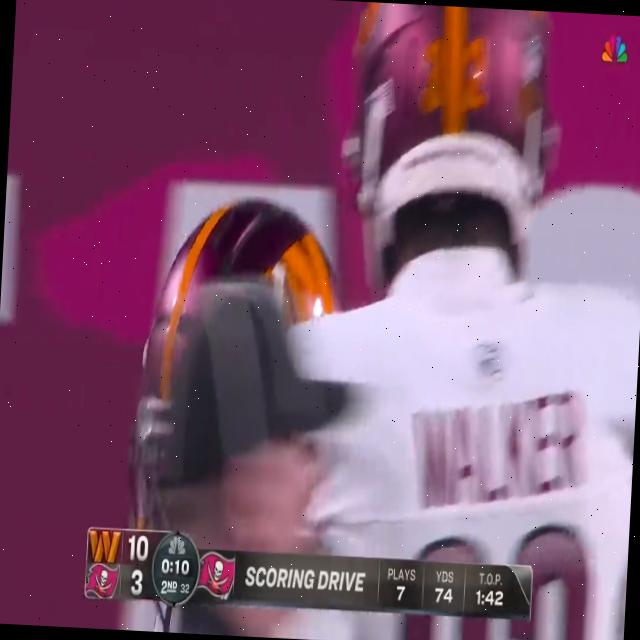Player: (292, 0, 640, 559)
